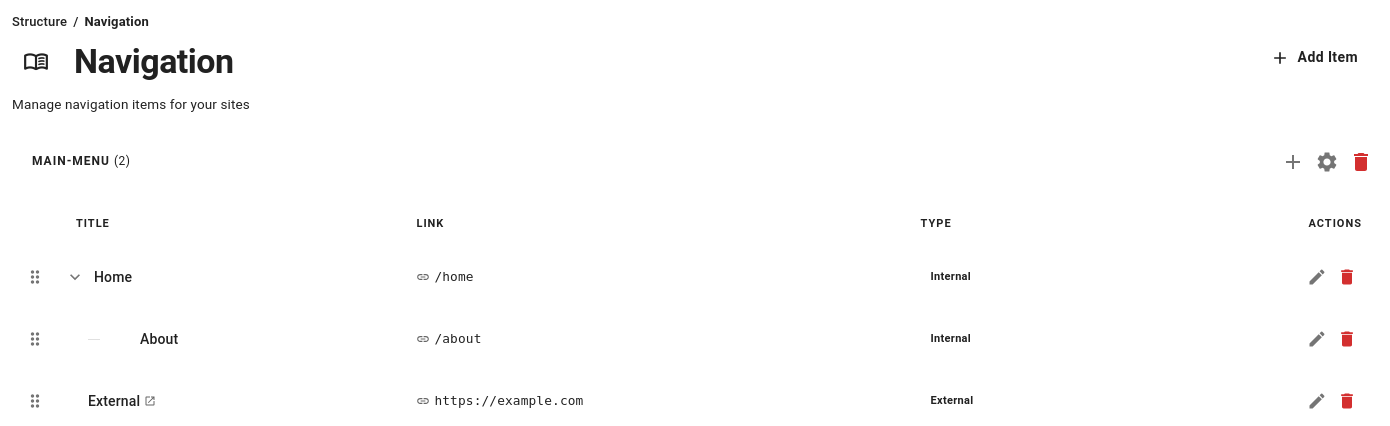
Test: NavigationPage › collapses children when toggle is clicked
The image size is (1390, 426).
Expected: the text "About" is shown, [140, 329, 178, 349]
// Click toggle to collapse
Step 1. Click the button with test id "tree-toggle" → (75, 277), box [60, 262, 90, 292]
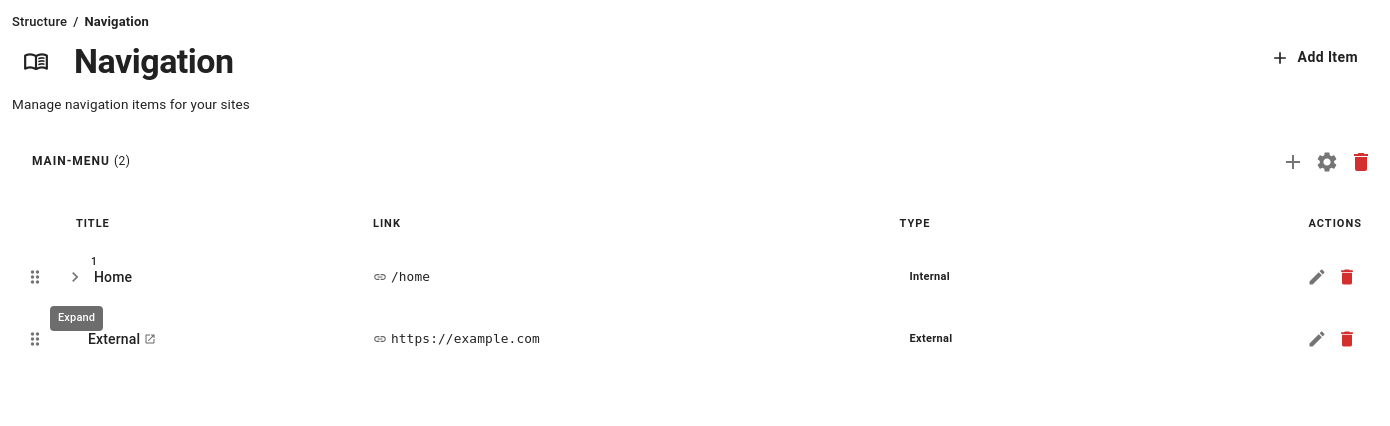
Expected: the button "About" is gone
